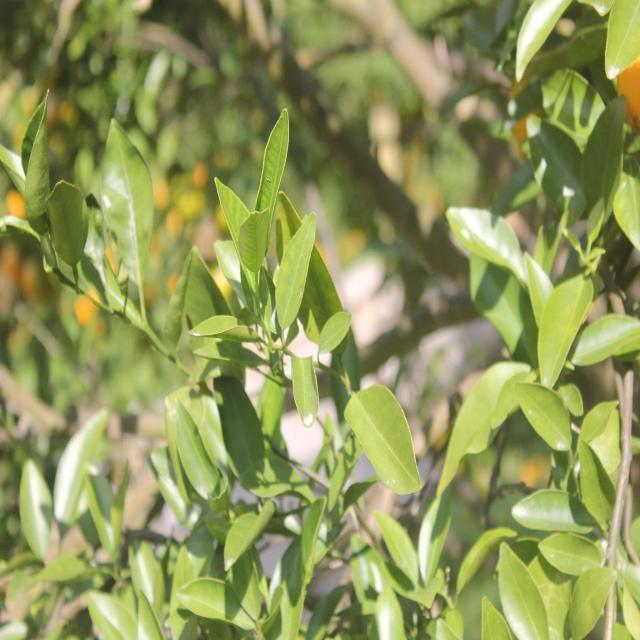melanose: (278, 207, 351, 353)
